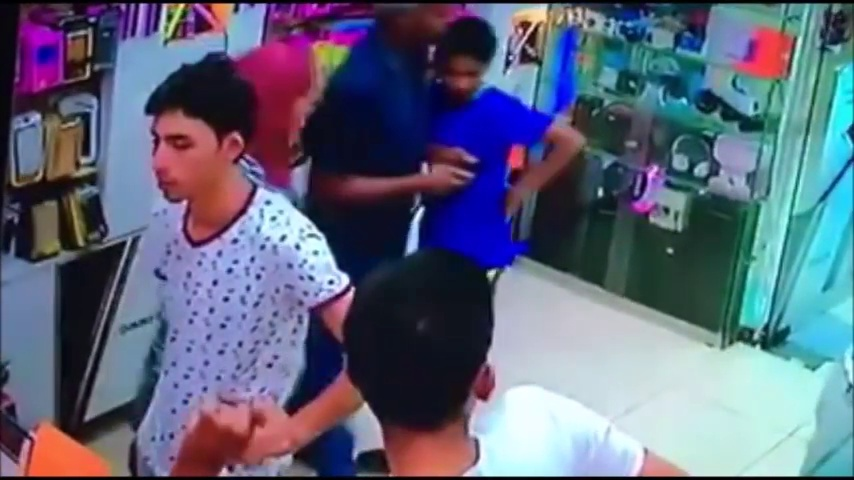face: (144, 106, 218, 204), (436, 44, 480, 106)
